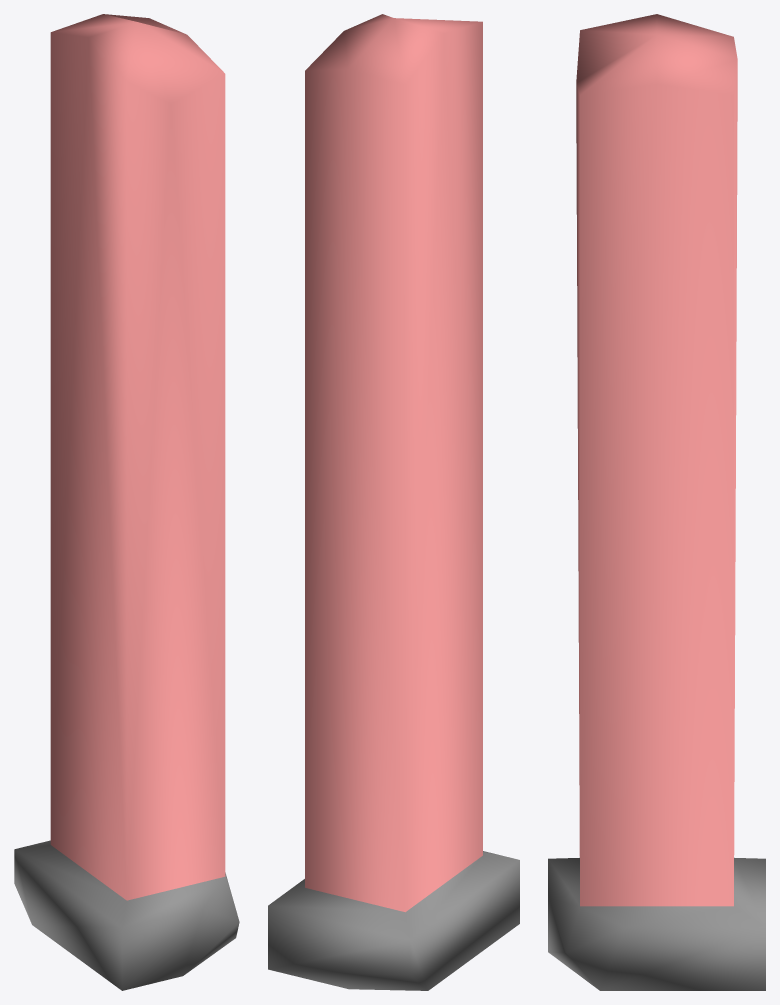
The model's file is skruins_pillar04.gltf.
The picture shows the model from 3 angles, left to right: view 1: azimuth 30°, elevation 25°; view 2: azimuth 150°, elevation 25°; view 3: azimuth 270°, elevation 25°; orthographic projection.
Visible parts, largest first — view 1: skruins_pillar04; view 2: skruins_pillar04; view 3: skruins_pillar04.
Boxes of the visible parts, x1,y1,x2,y2 form: skruins_pillar04: (14, 14, 239, 990); skruins_pillar04: (268, 14, 519, 990); skruins_pillar04: (548, 14, 765, 990).
Bounding box in the file's own units: 0.3118 × 1.95 × 0.4171.
